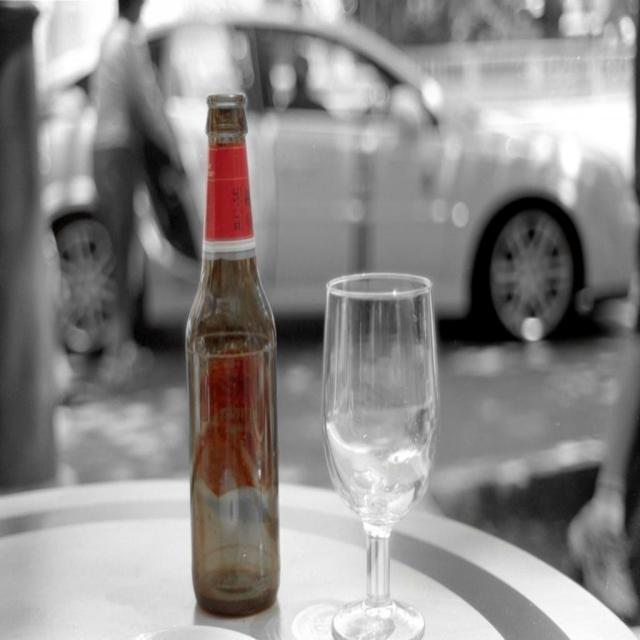bottle-glass: (184, 92, 284, 618)
glass-wine: (323, 270, 439, 639)
